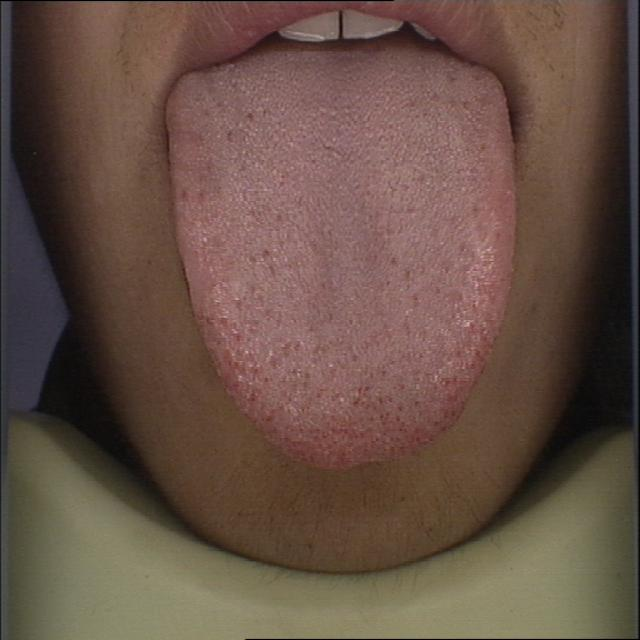tongue: (161, 43, 521, 475)
